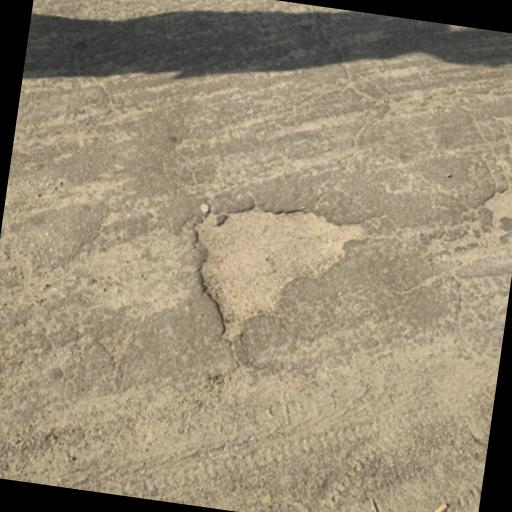pothole: (170, 190, 374, 360), (476, 183, 512, 225)
